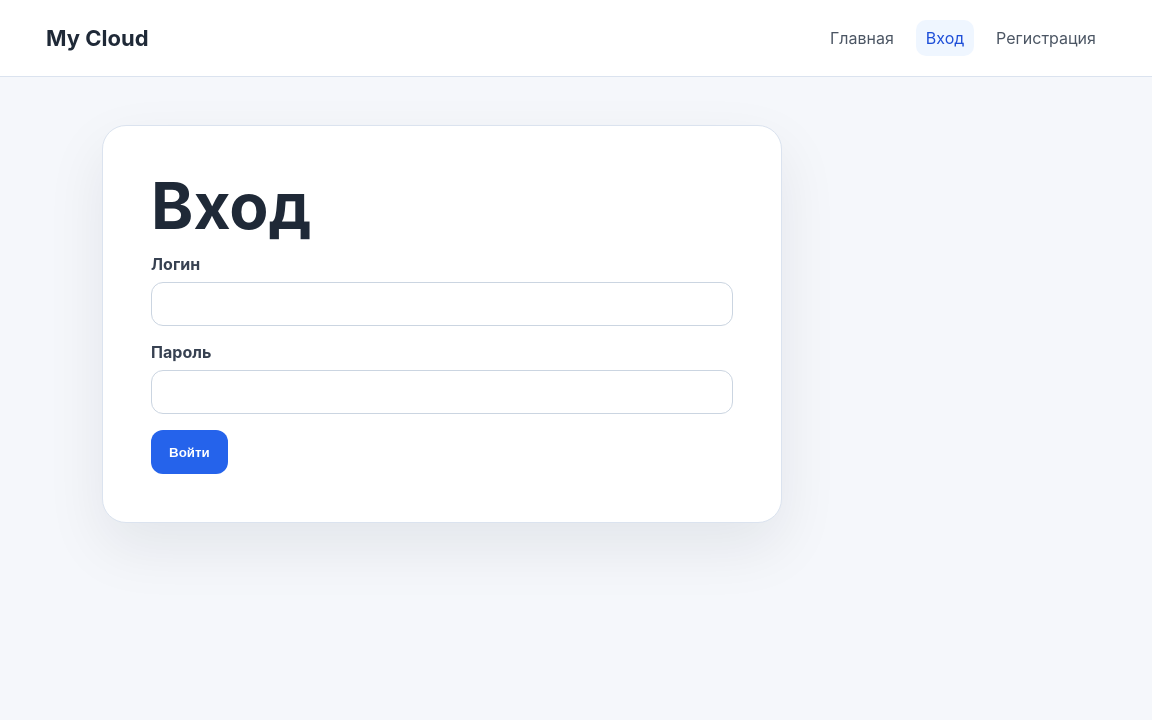
Test: App › validates required login fields
The image size is (1152, 720).
Step 1. Click the button "Войти" → point(189, 452), box [151,430,228,474]
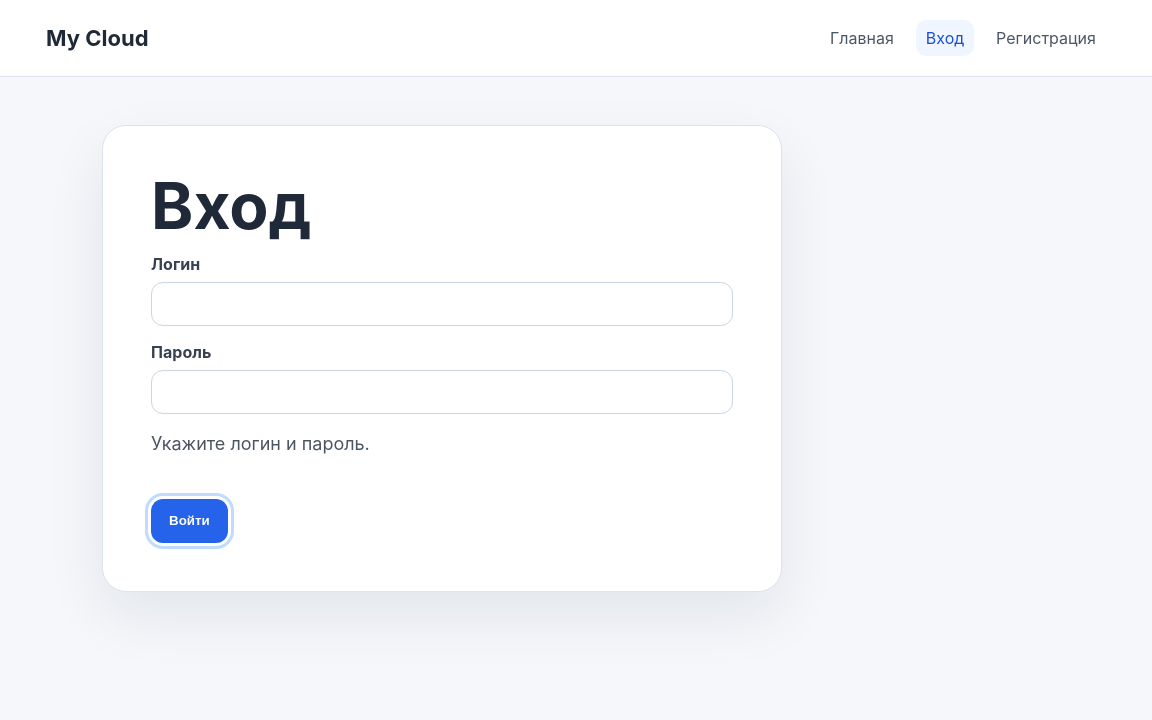
Expected: the message reads "Укажите логин и пароль.", [151,433,370,454]
